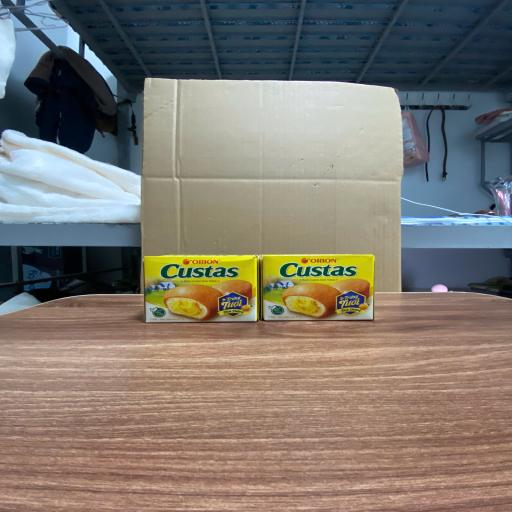custas: (143, 254, 260, 323), (260, 254, 376, 321)
